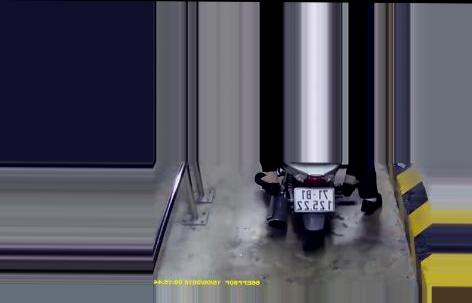License_Plate: (291, 184, 337, 215)
